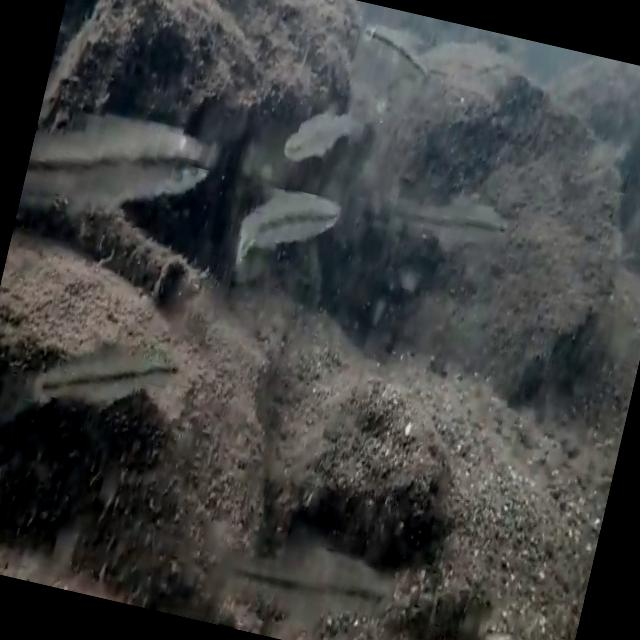Cakil Baligi: (15, 72, 228, 258), (0, 306, 179, 462), (201, 516, 396, 640), (362, 156, 520, 268), (226, 162, 348, 286), (352, 6, 441, 84), (279, 89, 362, 172)
